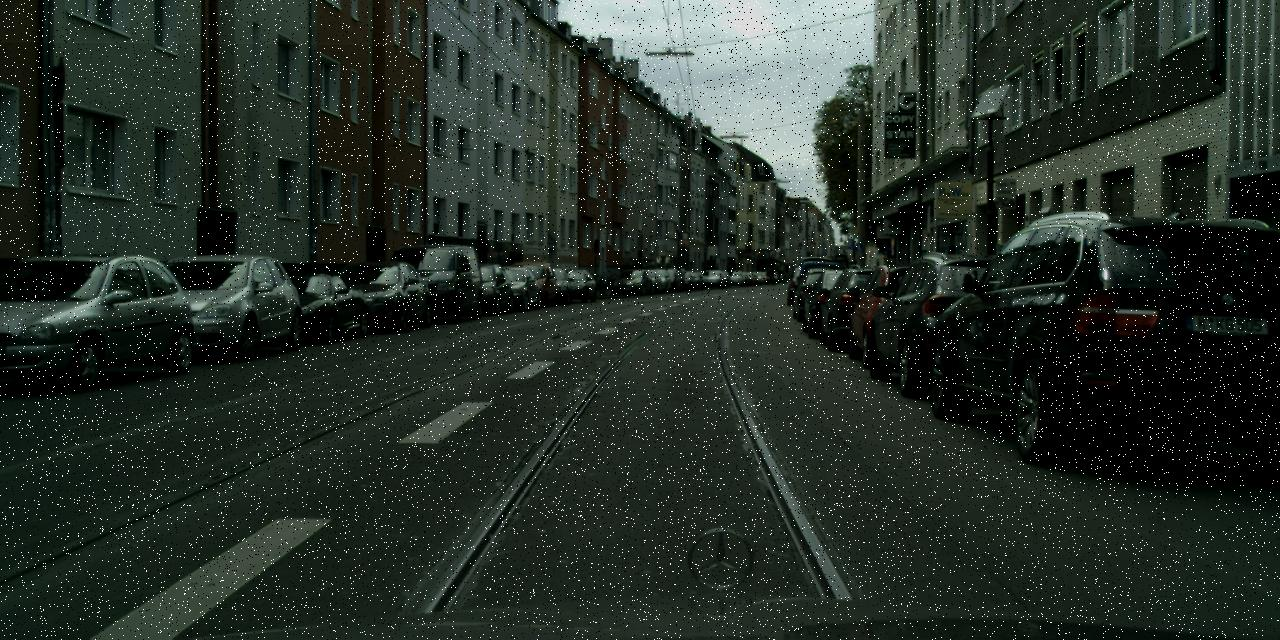ped: (677, 264, 686, 289)
